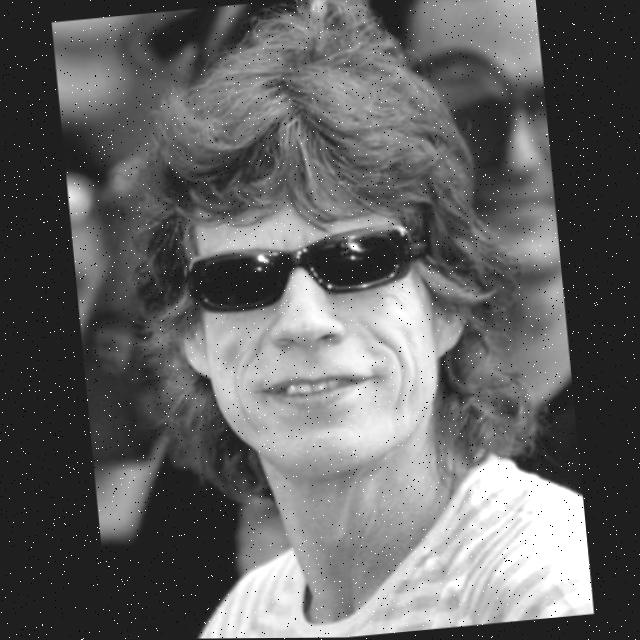face: (146, 82, 474, 474)
